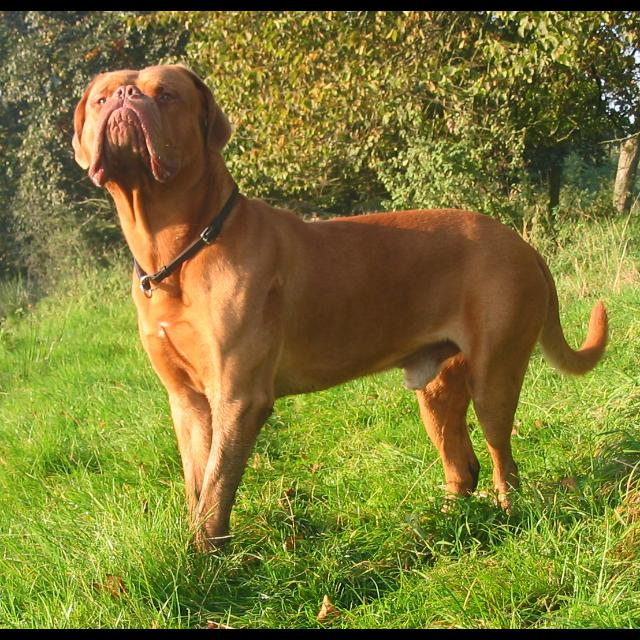dogue_de_bordeaux: (72, 63, 610, 558)
